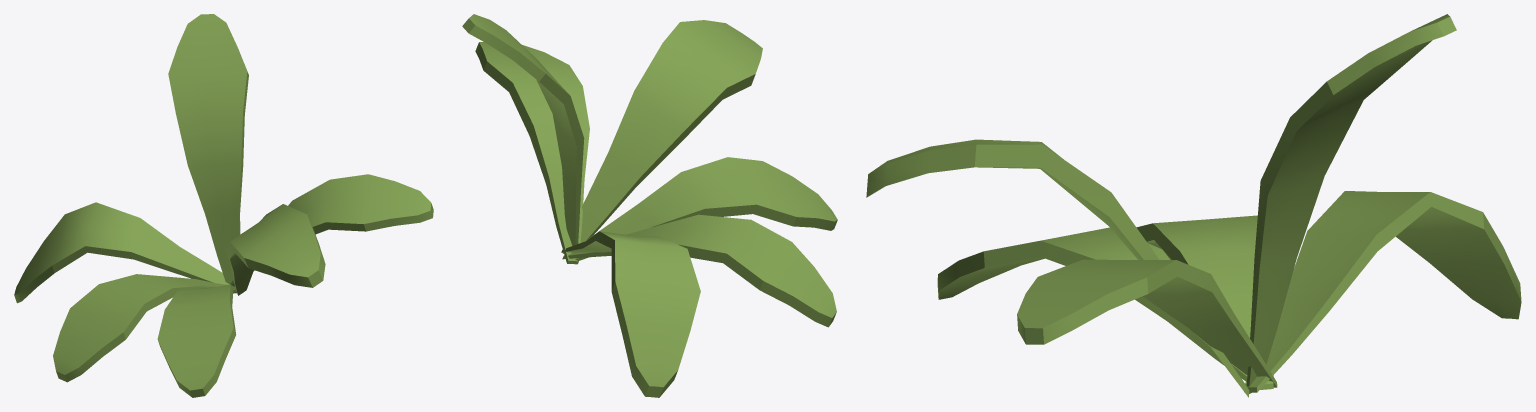
File: Leaves_1_Hanin.fbx
3 views of the same model, side by side, from view 1: azimuth 30°, elevation 25°; view 2: azimuth 150°, elevation 25°; view 3: azimuth 270°, elevation 25° (orthographic). The views are drawn at different scales.
Parts seen in each view (by area): view 1: Trial_Level_2:Trial_Level_2:Trial_Level_2:Trial_Level_2:poly; view 2: Trial_Level_2:Trial_Level_2:Trial_Level_2:Trial_Level_2:poly; view 3: Trial_Level_2:Trial_Level_2:Trial_Level_2:Trial_Level_2:poly.
Boxes of the visible parts, x1,y1,x2,y2 form: Trial_Level_2:Trial_Level_2:Trial_Level_2:Trial_Level_2:poly: [14, 14, 433, 397]; Trial_Level_2:Trial_Level_2:Trial_Level_2:Trial_Level_2:poly: [462, 14, 837, 397]; Trial_Level_2:Trial_Level_2:Trial_Level_2:Trial_Level_2:poly: [866, 14, 1521, 397].
Bounding box in the file's own units: 2.91 × 2.16 × 2.88.
